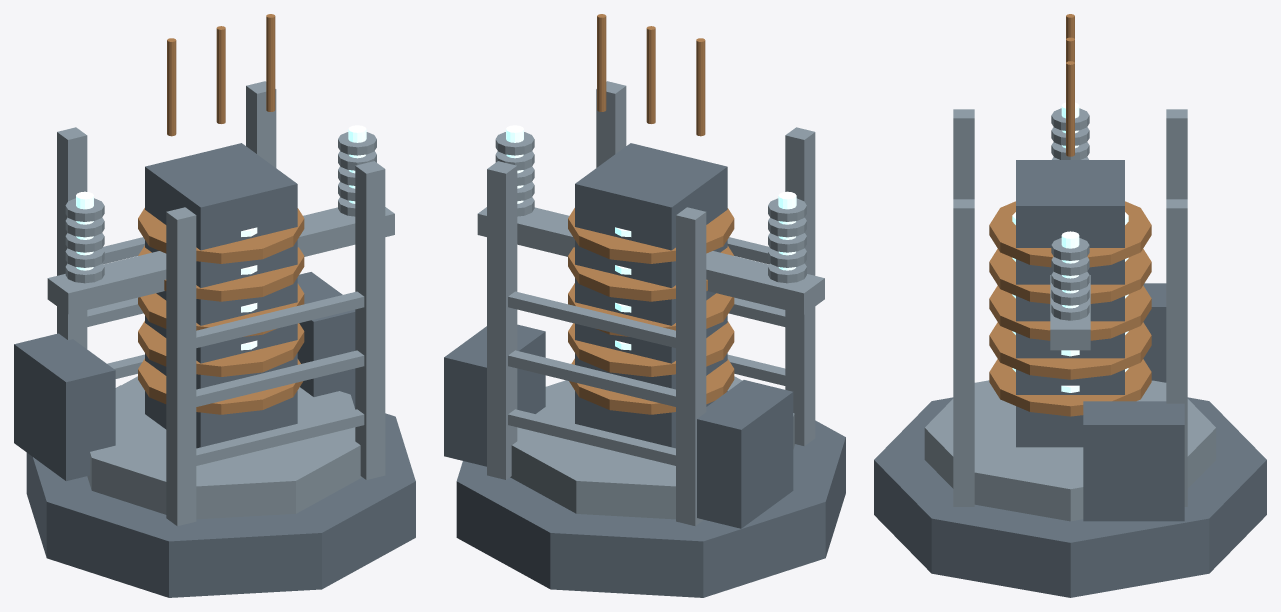
File: relay_t1.glb
3 renders of one model, left to right at view 1: azimuth 30°, elevation 25°; view 2: azimuth 150°, elevation 25°; view 3: azimuth 270°, elevation 25°, orthographic. The views are drawn at different scales.
Parts seen in each view (by area): view 1: Foundation, Lattice leg (×4), Transformer, Base upper armor, Switchgear (×2), Induction loop (×5), Lattice tie (×5), Crossarm, Ceramic disc (×6), Crown conductor (×3); view 2: Foundation, Lattice leg (×4), Transformer, Switchgear (×2), Induction loop (×5), Lattice tie (×6), Base upper armor, Crossarm, Ceramic disc (×6), Crown conductor (×3); view 3: Foundation, Transformer, Induction loop (×5), Lattice leg (×4), Switchgear (×2), Base upper armor, Ceramic disc (×5), Crossarm, Crown conductor.
Part boxes in pixels (x1,y1,x2,y2): Foundation: (26,385,415,597); Lattice leg (×4): (57,81,385,526); Transformer: (145,143,297,448); Base upper armor: (87,376,361,519); Switchgear (×2): (14,272,355,481); Induction loop (×5): (138,208,304,414); Lattice tie (×5): (87,237,364,465); Crossarm: (47,207,394,314); Ceramic disc (×6): (65,132,376,283); Crown conductor (×3): (167,14,275,136); Foundation: (456,420,845,597); Lattice leg (×4): (487,81,815,525); Transformer: (575,143,727,448); Switchgear (×2): (444,324,793,528); Induction loop (×5): (568,208,734,414); Lattice tie (×6): (508,237,785,465); Base upper armor: (510,376,794,519); Crossarm: (477,207,824,314); Ceramic disc (×6): (495,132,806,283); Crown conductor (×3): (597,14,705,136); Foundation: (874,397,1266,597); Transformer: (1016,160,1124,447); Induction loop (×5): (989,201,1151,416); Lattice leg (×4): (953,109,1187,506); Switchgear (×2): (1083,283,1184,521); Base upper armor: (924,380,1216,521); Ceramic disc (×5): (1051,238,1089,320); Crossarm: (1050,275,1090,350); Crown conductor: (1066,61,1074,156).
Bounding box in the file's own units: 1.55 × 2.07 × 1.55.
